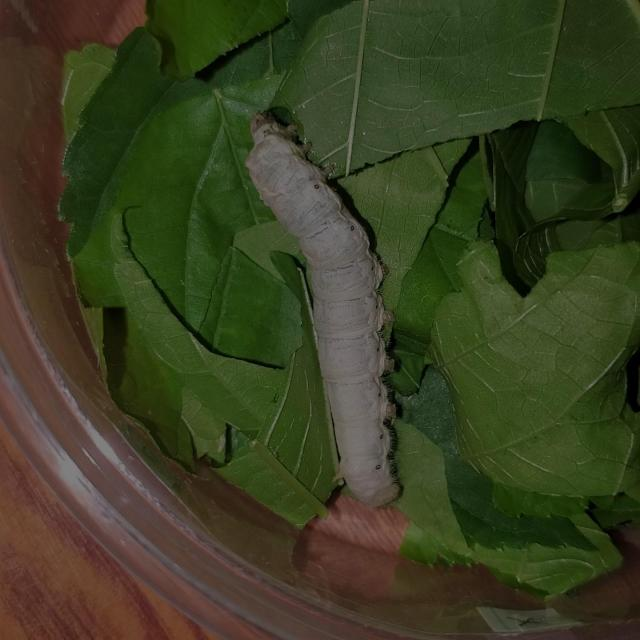Healthy: (239, 103, 413, 517)
